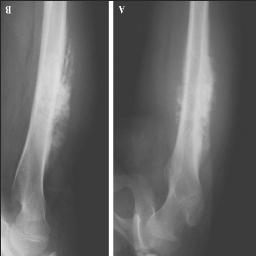cancer: (173, 0, 212, 170), (46, 39, 72, 161)
